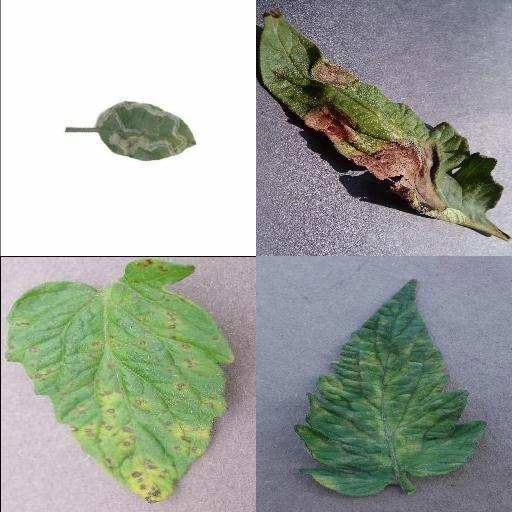Late Blight: (261, 7, 507, 243)
Leaf Miner: (95, 103, 196, 161)
Leaf Mold: (296, 278, 490, 494)
Septoria: (4, 256, 233, 502)
